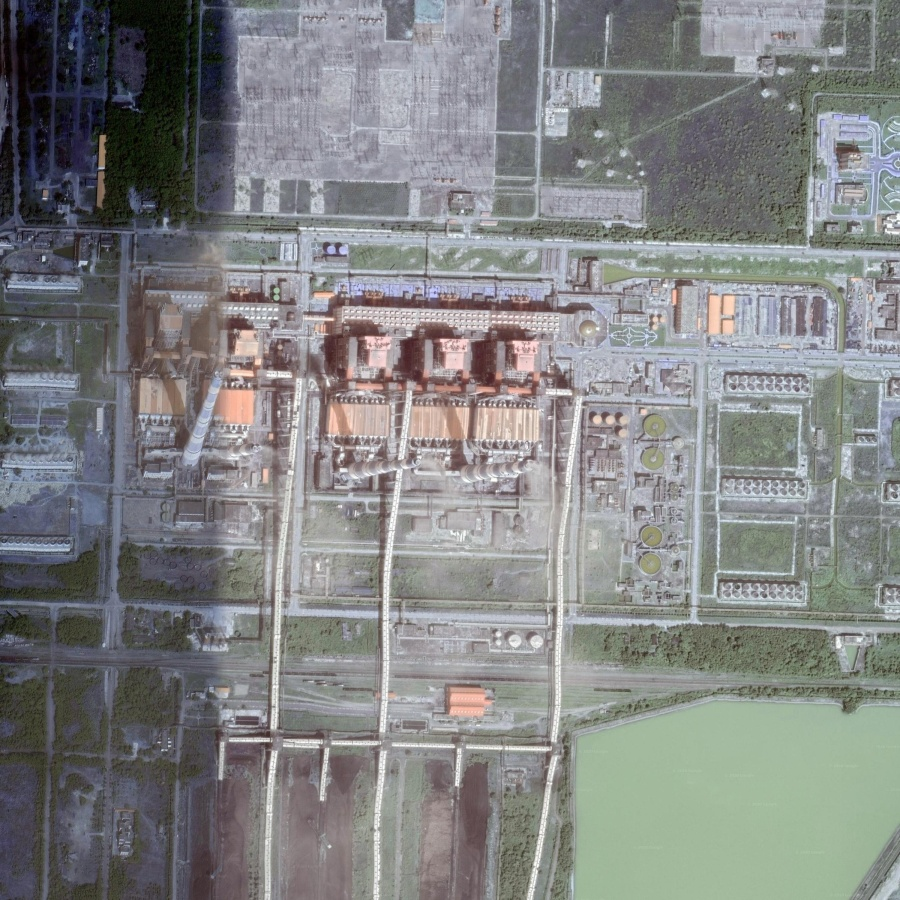PowerPlant: (113, 224, 575, 566)
